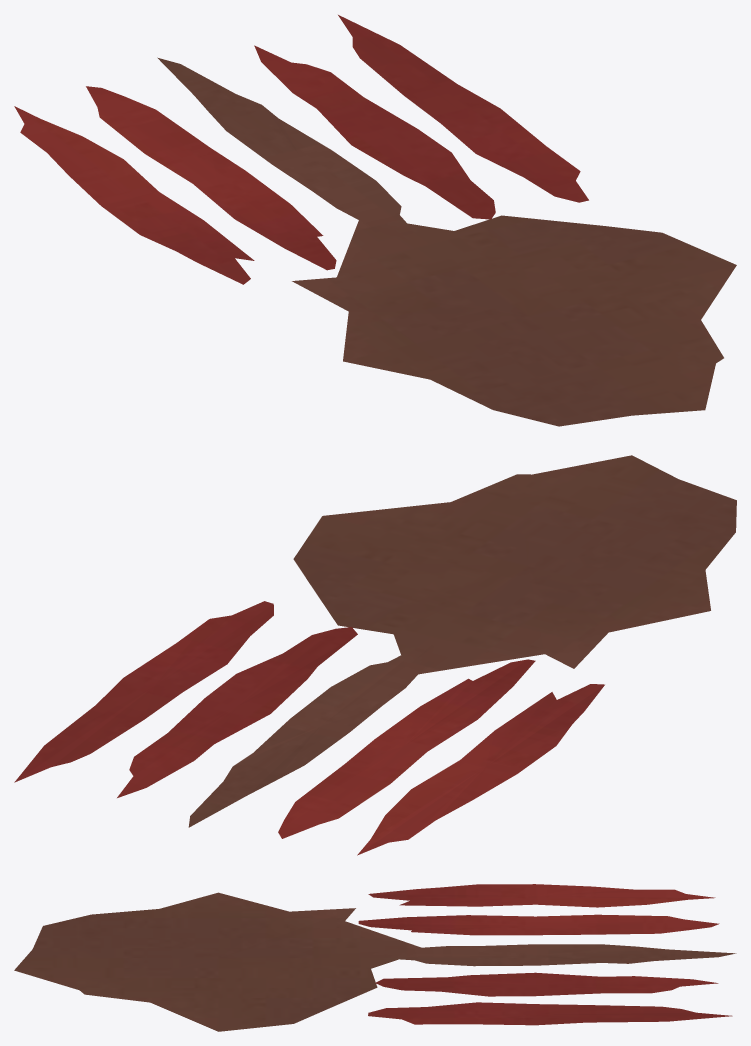
Rendered from blood_handprint.glb.
3 views of the same model, one above another, from view 1: azimuth 30°, elevation 25°; view 2: azimuth 150°, elevation 25°; view 3: azimuth 270°, elevation 25° (orthographic). The views are drawn at different scales.
Visible parts, largest first — view 1: blood_handprint; view 2: blood_handprint; view 3: blood_handprint.
Boxes of the visible parts, x1,y1,x2,y2 form: blood_handprint: (14, 15, 736, 426); blood_handprint: (14, 455, 736, 855); blood_handprint: (14, 884, 736, 1031).
Size of the model in its own units: 0.1539 by 0.000299 by 0.319.
Materials: 2 (2 with a texture image).
